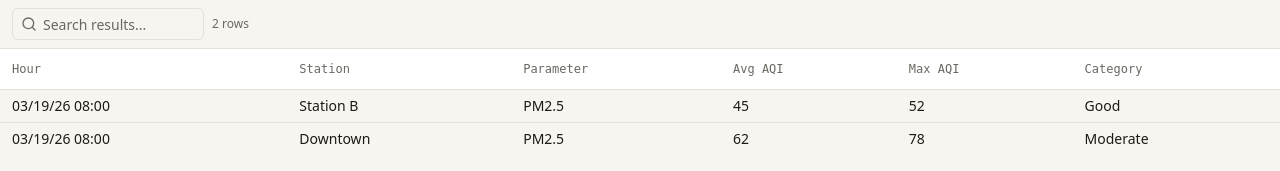
QueryResultTable › renders result rows and reorders them from a column sort toggle
Expected: the text "Downtown" is shown, top-left (287, 122), bottom-right (511, 154)
Expected: the text "Station B" is shown, top-left (287, 89), bottom-right (511, 122)
Click the column heading "Station" at (325, 69), box top-left (287, 49), bottom-right (511, 89)
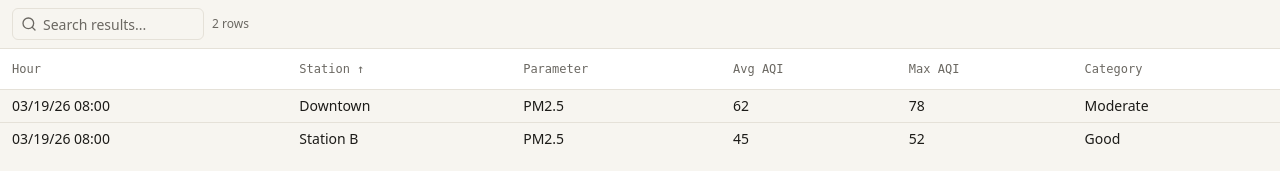
Expected: the text "Downtown" is shown, top-left (287, 89), bottom-right (511, 122)
Click the column heading "Station ↑" at (325, 69), box top-left (287, 49), bottom-right (511, 89)
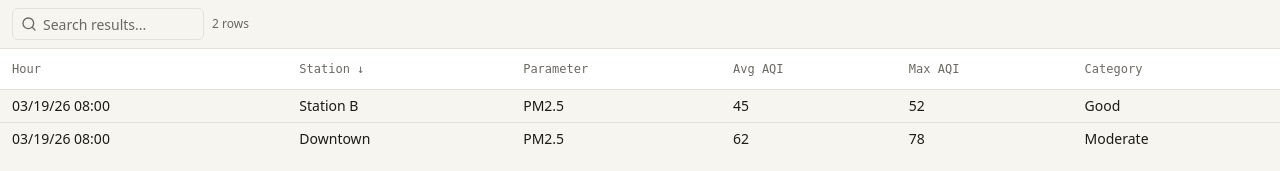
Expected: the text "Station B" is shown, top-left (287, 89), bottom-right (511, 122)
